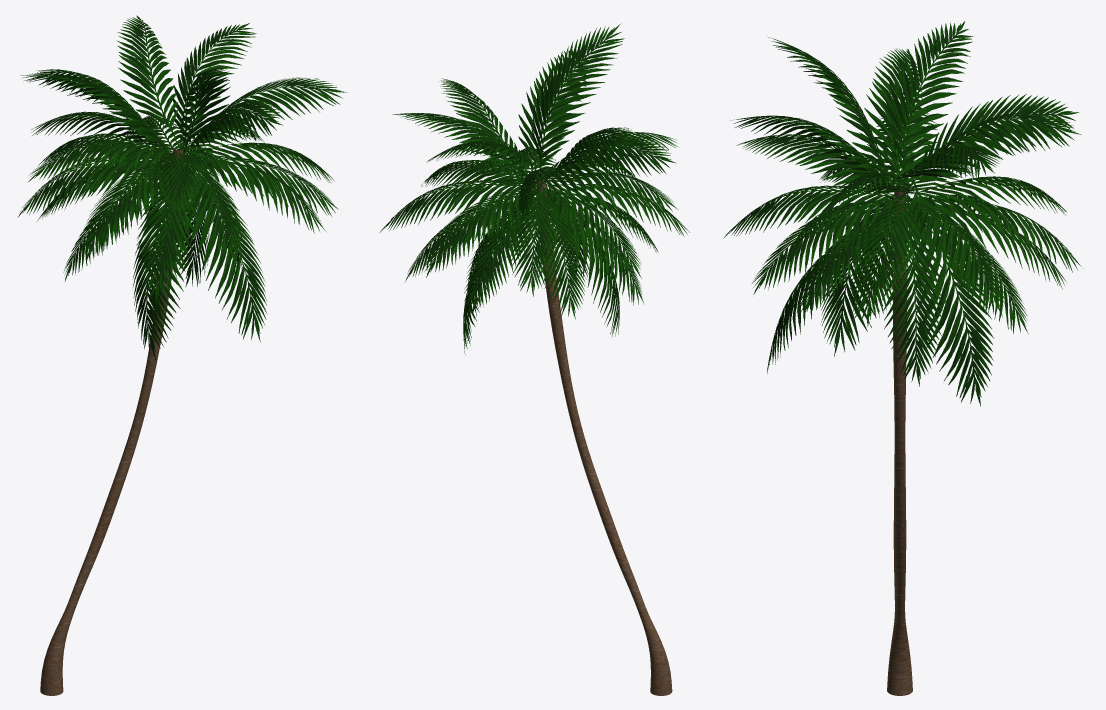
File: SM_tree_new.glb
3 renders of one model, left to right at view 1: azimuth 30°, elevation 25°; view 2: azimuth 150°, elevation 25°; view 3: azimuth 270°, elevation 25°, orthographic. The views are drawn at different scales.
Visible parts, largest first — view 1: SM_tree_new; view 2: SM_tree_new; view 3: SM_tree_new.
Boxes of the visible parts, box(x1,y1,x2,y2) form: SM_tree_new: box(17, 15, 347, 695); SM_tree_new: box(380, 23, 689, 695); SM_tree_new: box(724, 21, 1081, 695).
Size of the model in its own units: 10.49 by 21.49 by 10.07.
2 materials, 2 textured.
